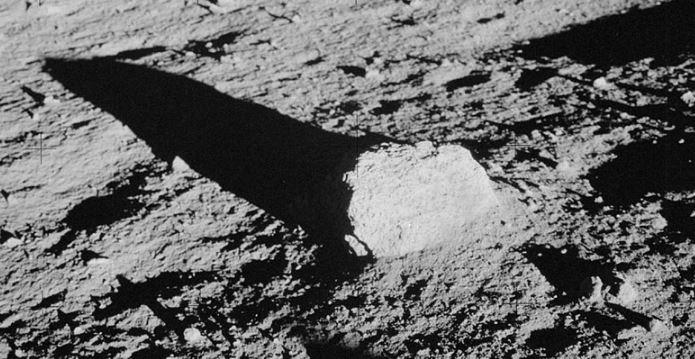rock: (343, 141, 498, 258)
